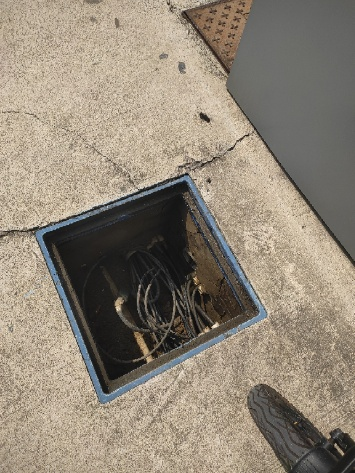lose: (33, 174, 267, 406)
